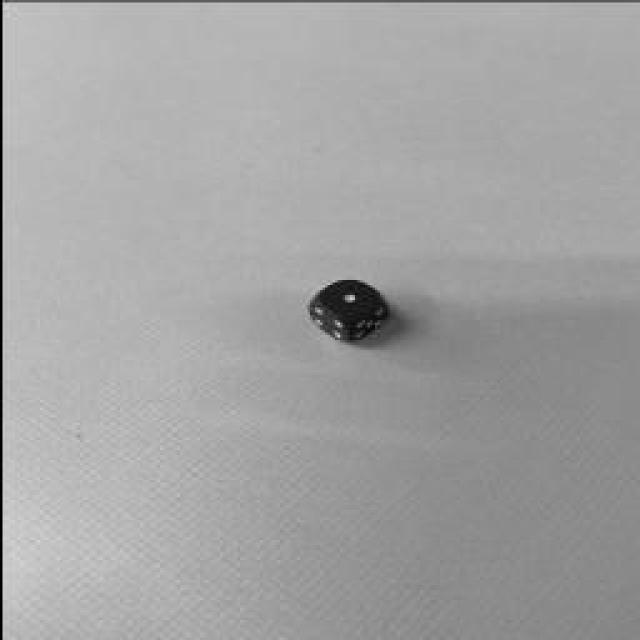dice_1: (318, 279, 378, 316)
